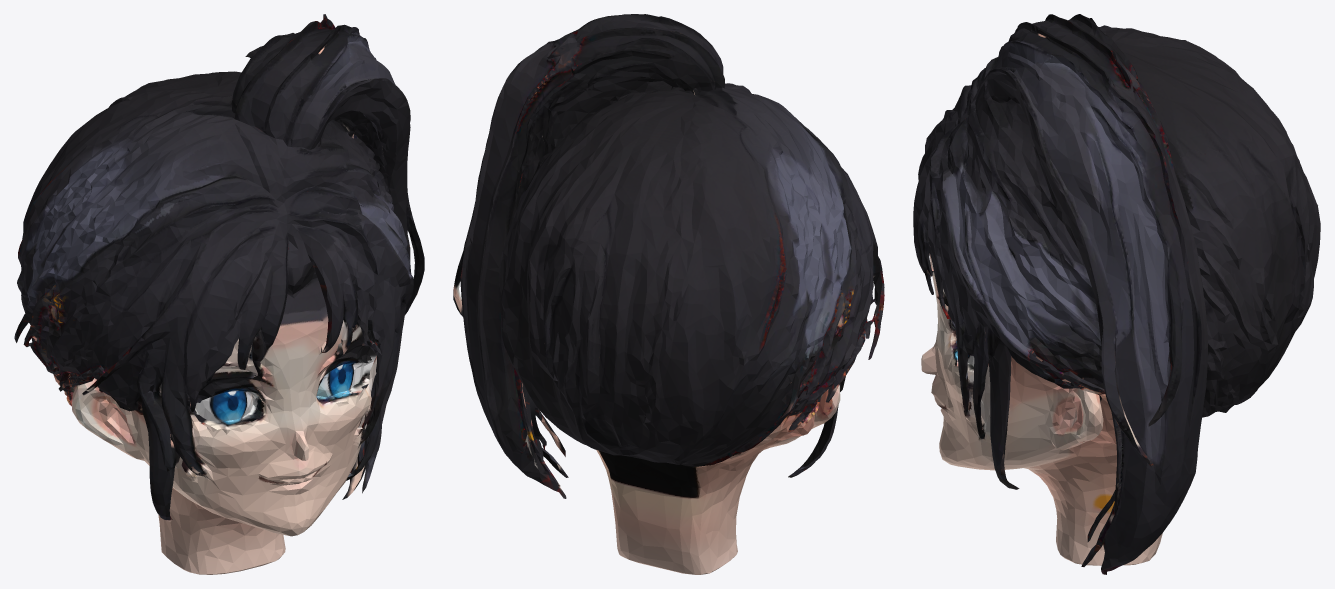
File: side_miyubi_repaired_atlas.glb
The picture shows the model from 3 angles, left to right: view 1: azimuth 30°, elevation 25°; view 2: azimuth 150°, elevation 25°; view 3: azimuth 270°, elevation 25°; orthographic projection. The views are drawn at different scales.
Visible parts, largest first — view 1: temp_mesh.ply; view 2: temp_mesh.ply; view 3: temp_mesh.ply.
Part boxes in pixels (x1,y1,x2,y2): temp_mesh.ply: (14,14,424,574); temp_mesh.ply: (453,14,884,574); temp_mesh.ply: (913,14,1320,574).
Bounding box in the file's own units: 1.51 × 1.97 × 1.34.
1 material, 1 textured.
